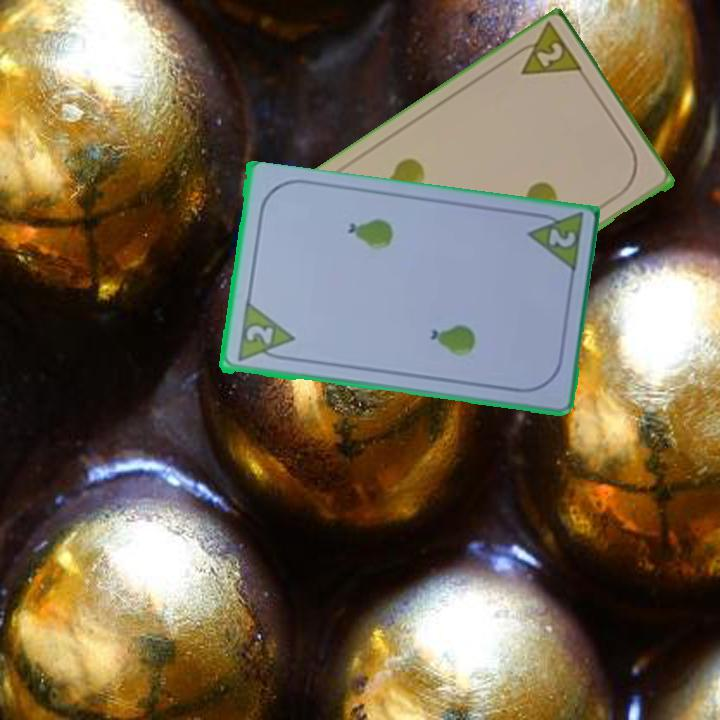2p: (505, 21, 587, 79), (522, 209, 586, 277), (242, 321, 277, 349)
